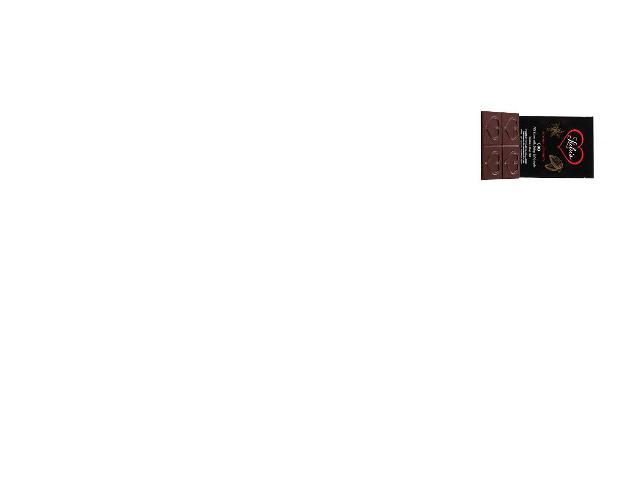chocolate: (476, 105, 594, 182)
